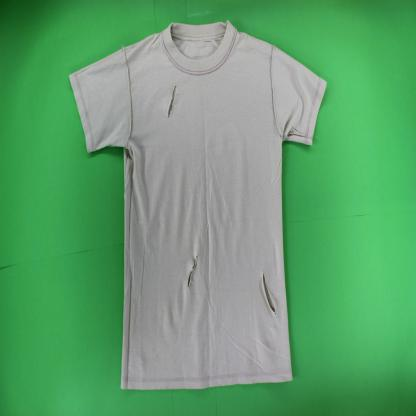hole: (261, 268, 279, 320), (185, 251, 200, 292), (165, 83, 179, 121)
